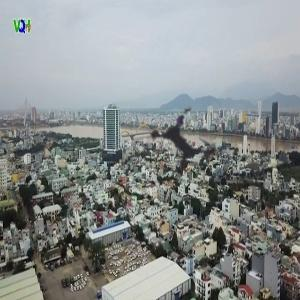drone: (115, 70, 259, 214)
